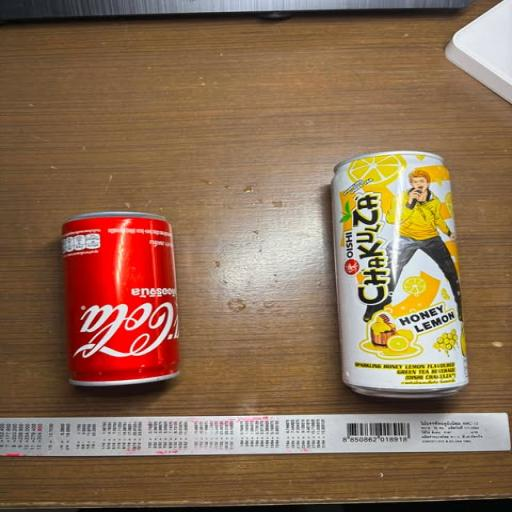canned: (285, 131, 495, 405), (26, 194, 232, 406)
